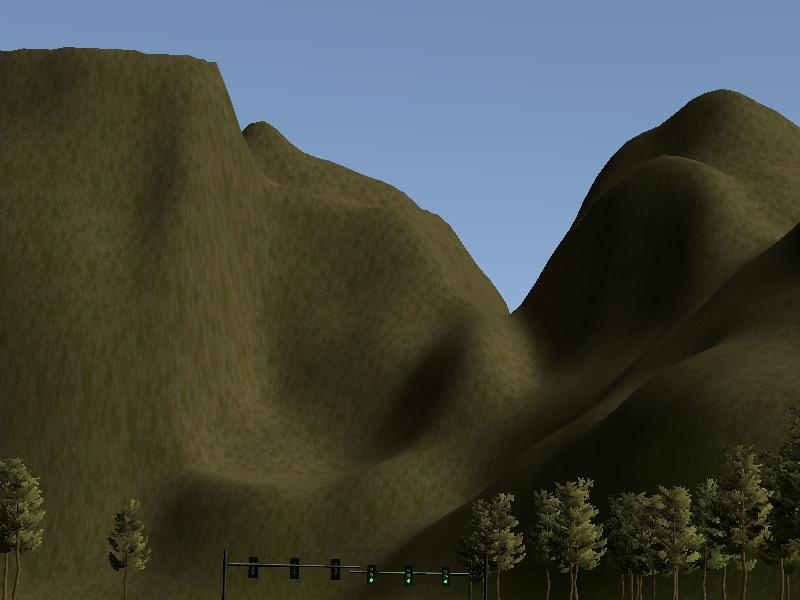Green: (364, 561, 378, 588), (439, 563, 452, 588), (402, 564, 415, 587)
